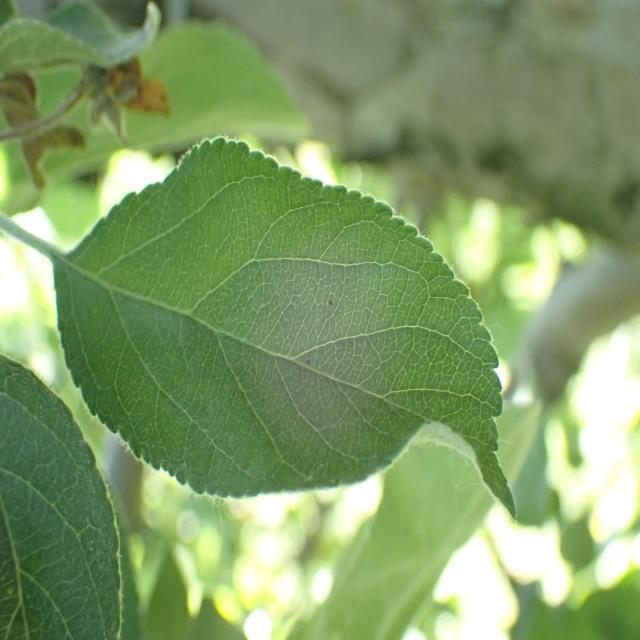healthy: (54, 136, 519, 524), (0, 352, 123, 640)
